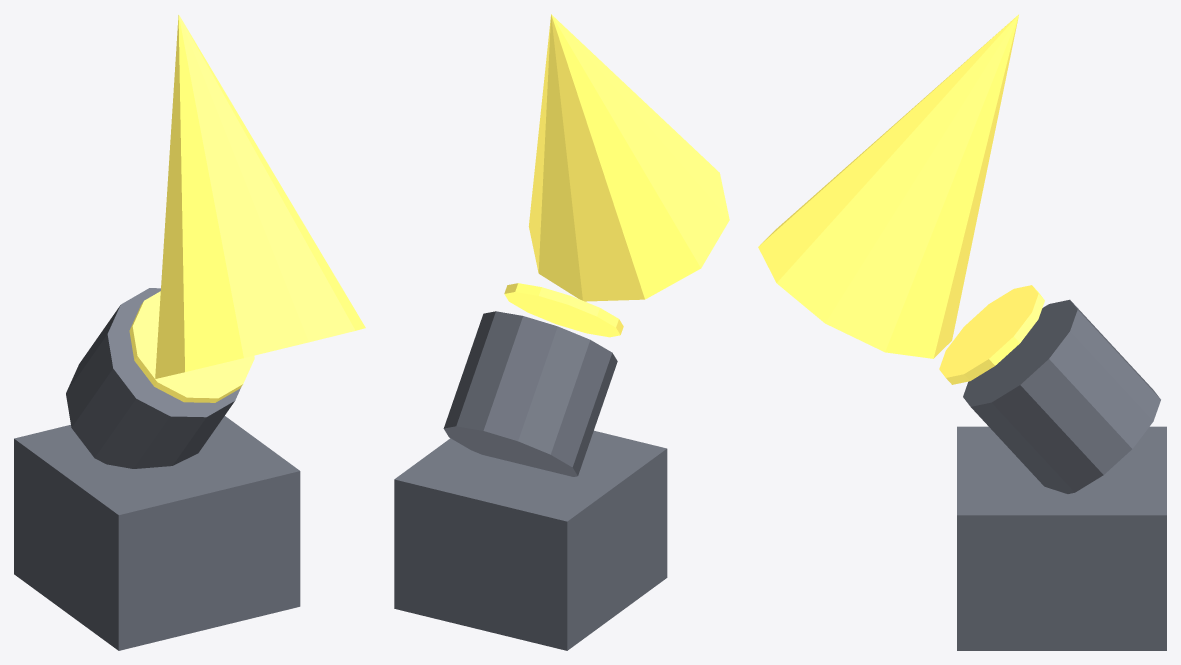
Rendered from hero_beacon.glb.
3 renders of one model, left to right at view 1: azimuth 30°, elevation 25°; view 2: azimuth 150°, elevation 25°; view 3: azimuth 270°, elevation 25°, orthographic. The views are drawn at different scales.
Parts seen in each view (by area): view 1: hero_beacon; view 2: hero_beacon; view 3: hero_beacon.
Boxes of the visible parts, box(x1,y1,x2,y2) form: hero_beacon: box(14, 14, 365, 650); hero_beacon: box(394, 14, 729, 650); hero_beacon: box(758, 14, 1166, 650).
Size of the model in its own units: 0.42 by 1.31 by 0.8186.
